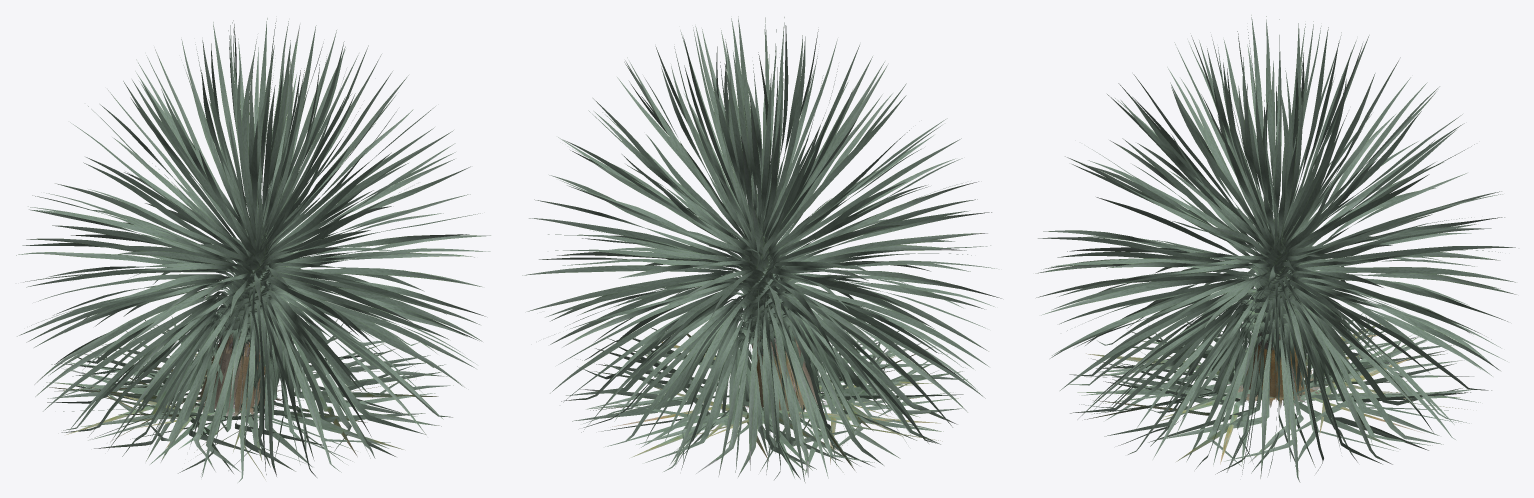
The model's file is yucca_beaked.glb.
3 renders of one model, left to right at view 1: azimuth 30°, elevation 25°; view 2: azimuth 150°, elevation 25°; view 3: azimuth 270°, elevation 25°, orthographic.
Parts seen in each view (by area): view 1: Yucca_rostrata_HD; view 2: Yucca_rostrata_HD; view 3: Yucca_rostrata_HD.
Part boxes in pixels (x1,y1,x2,y2): Yucca_rostrata_HD: (16, 18, 490, 482); Yucca_rostrata_HD: (522, 16, 1001, 482); Yucca_rostrata_HD: (1035, 15, 1516, 482).
Bounding box in the file's own units: 1.26 × 1.04 × 1.27.
14 materials, 14 textured.
